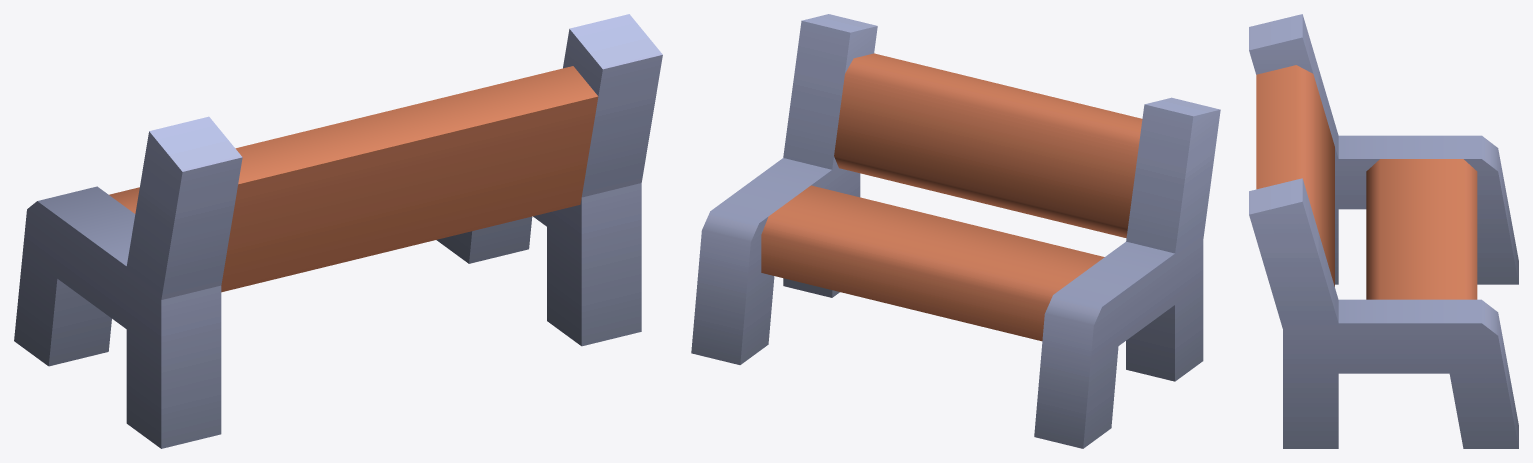
The model's file is k-coaster-bench.glb.
3 views of the same model, side by side, from view 1: azimuth 30°, elevation 25°; view 2: azimuth 150°, elevation 25°; view 3: azimuth 270°, elevation 25° (orthographic). The views are drawn at different scales.
Visible parts, largest first — view 1: bench; view 2: bench; view 3: bench.
Part boxes in pixels (<box>): bench: <box>14,14,662,448</box>; bench: <box>691,14,1220,448</box>; bench: <box>1249,14,1518,448</box>.
Size of the model in its own units: 0.8 by 0.4915 by 0.4863.
Materials: 1 (1 with a texture image).
